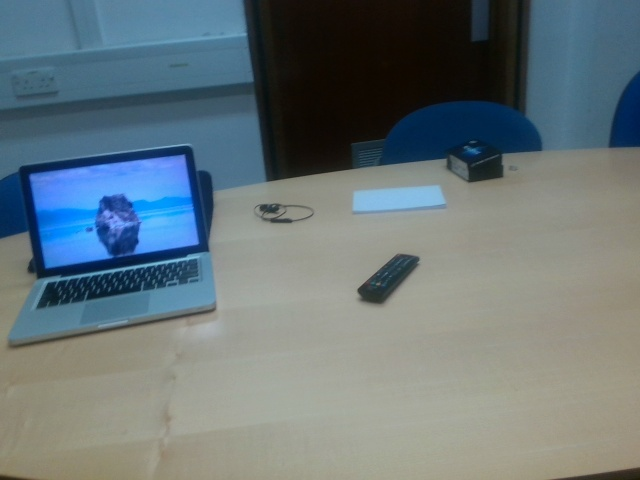remote: (356, 253, 425, 303)
